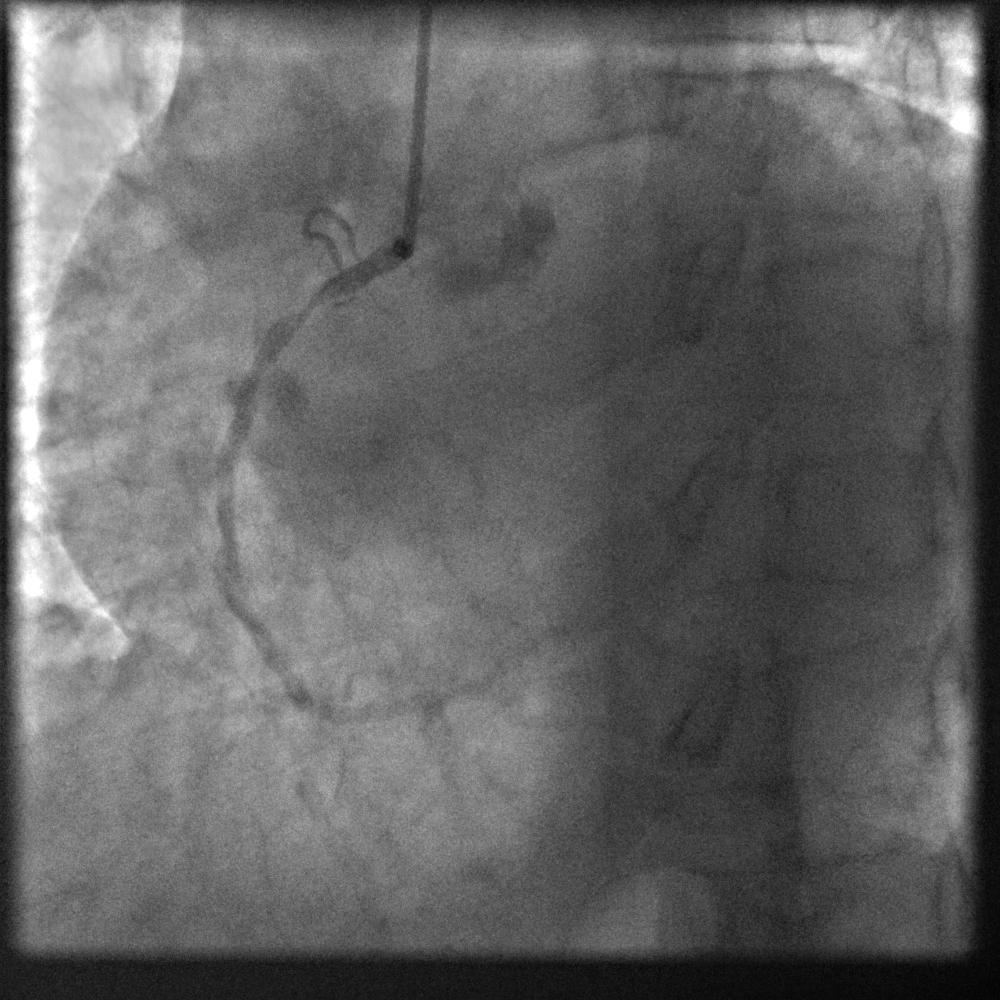Stenosis: (279, 285, 330, 329)
